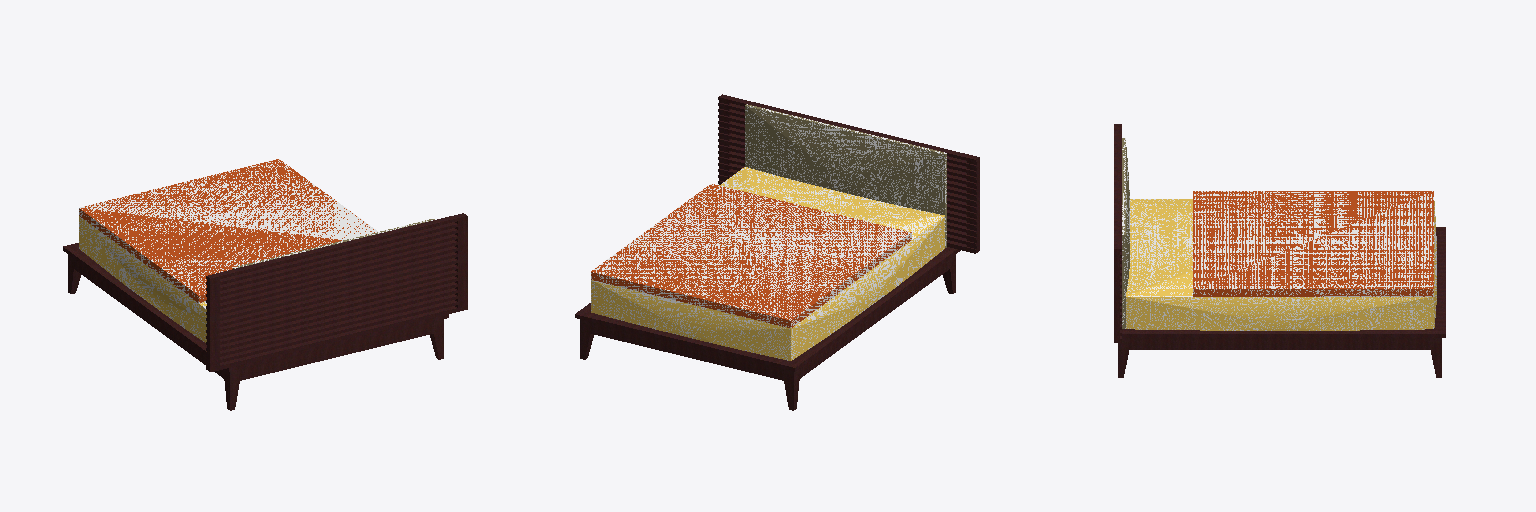
3 views of the same model, side by side, from view 1: azimuth 30°, elevation 25°; view 2: azimuth 150°, elevation 25°; view 3: azimuth 270°, elevation 25° (orthographic).
Parts seen in each view (by area): view 1: mesh13_mesh13-geometry, mesh11_mesh11-geometry, mesh9_mesh9-geometry, mesh14_mesh14-geometry; view 2: mesh11_mesh11-geometry, mesh14_mesh14-geometry, mesh12_mesh12-geometry, mesh9_mesh9-geometry, mesh13_mesh13-geometry; view 3: mesh11_mesh11-geometry, mesh14_mesh14-geometry, mesh9_mesh9-geometry, mesh13_mesh13-geometry, mesh12_mesh12-geometry.
Part boxes in pixels (left/top/right/bottom): mesh13_mesh13-geometry: left=206, top=213, right=467, bottom=371; mesh11_mesh11-geometry: left=79, top=159, right=377, bottom=303; mesh9_mesh9-geometry: left=63, top=243, right=448, bottom=380; mesh14_mesh14-geometry: left=79, top=216, right=206, bottom=342; mesh11_mesh11-geometry: left=591, top=184, right=911, bottom=327; mesh14_mesh14-geometry: left=591, top=167, right=944, bottom=360; mesh12_mesh12-geometry: left=745, top=104, right=946, bottom=247; mesh9_mesh9-geometry: left=575, top=247, right=960, bottom=380; mesh13_mesh13-geometry: left=718, top=94, right=979, bottom=253; mesh11_mesh11-geometry: left=1193, top=191, right=1433, bottom=296; mesh14_mesh14-geometry: left=1126, top=199, right=1436, bottom=330; mesh9_mesh9-geometry: left=1122, top=227, right=1445, bottom=349; mesh13_mesh13-geometry: left=1114, top=124, right=1121, bottom=342; mesh12_mesh12-geometry: left=1122, top=138, right=1129, bottom=328.
Size of the model in its own units: 0.6307 by 0.3256 by 0.7044.
Materials: 7 (2 with a texture image).